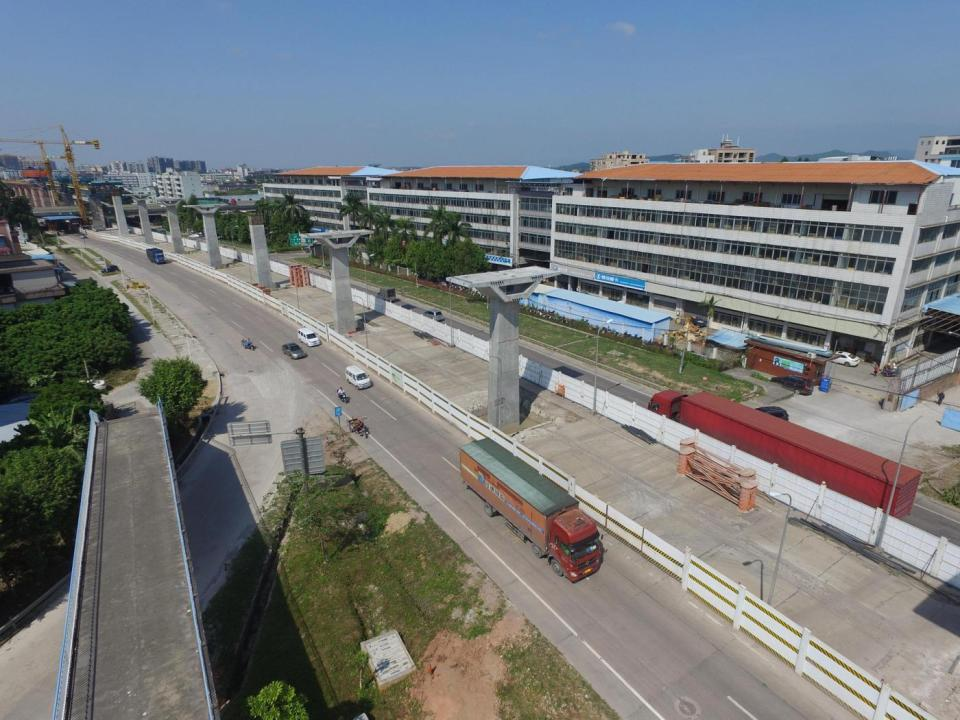car: (771, 374, 813, 395), (749, 406, 789, 424), (824, 351, 859, 367), (282, 342, 306, 359), (74, 380, 106, 391), (423, 309, 443, 321), (100, 265, 118, 273), (188, 234, 199, 238), (78, 233, 86, 238)
truck: (647, 390, 922, 519), (460, 437, 603, 583), (189, 198, 237, 207), (376, 286, 396, 302), (146, 248, 165, 264), (157, 230, 166, 237)
van: (345, 365, 371, 389), (298, 327, 320, 347)
